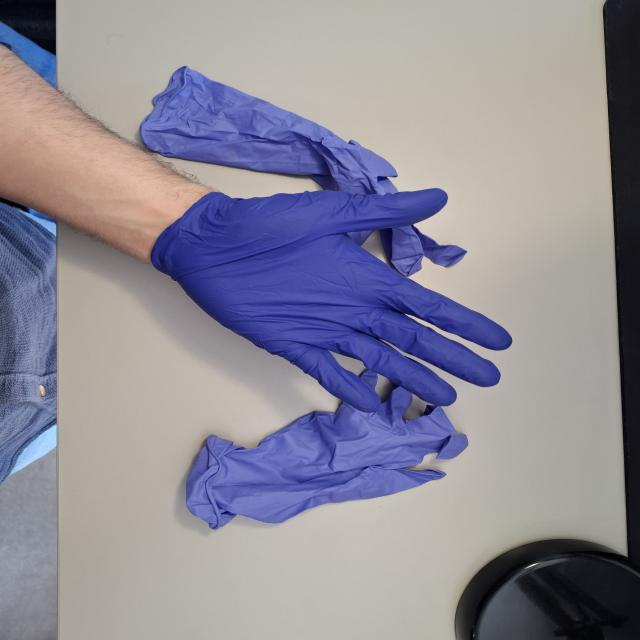glove_on: (150, 185, 517, 417)
